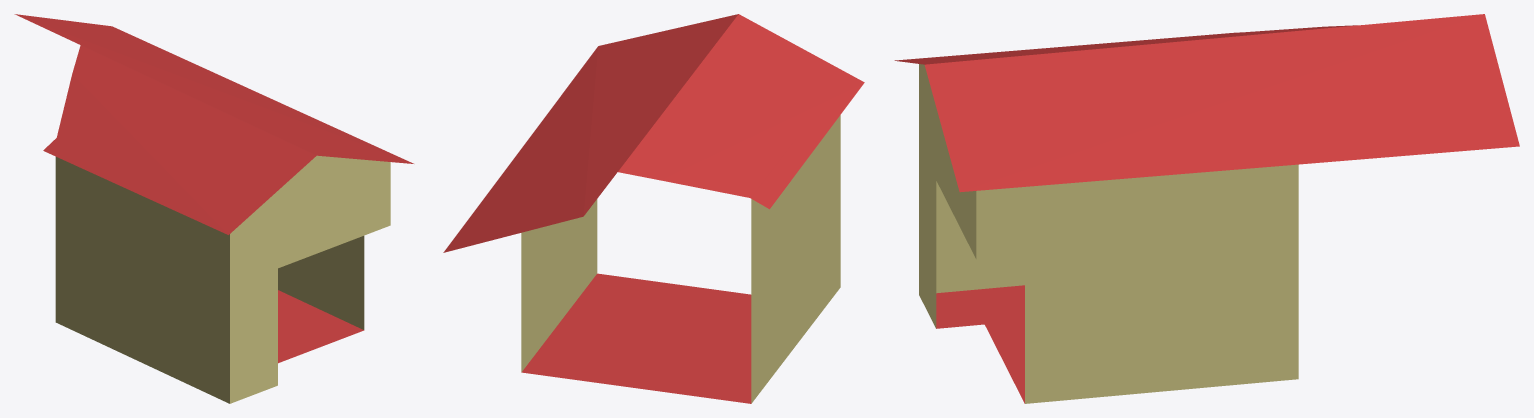
3 views of the same model, side by side, from view 1: azimuth 30°, elevation 25°; view 2: azimuth 150°, elevation 25°; view 3: azimuth 270°, elevation 25° (orthographic). The views are drawn at different scales.
Bounding box in the file's own units: 13.22 × 21.54 × 10.81.
